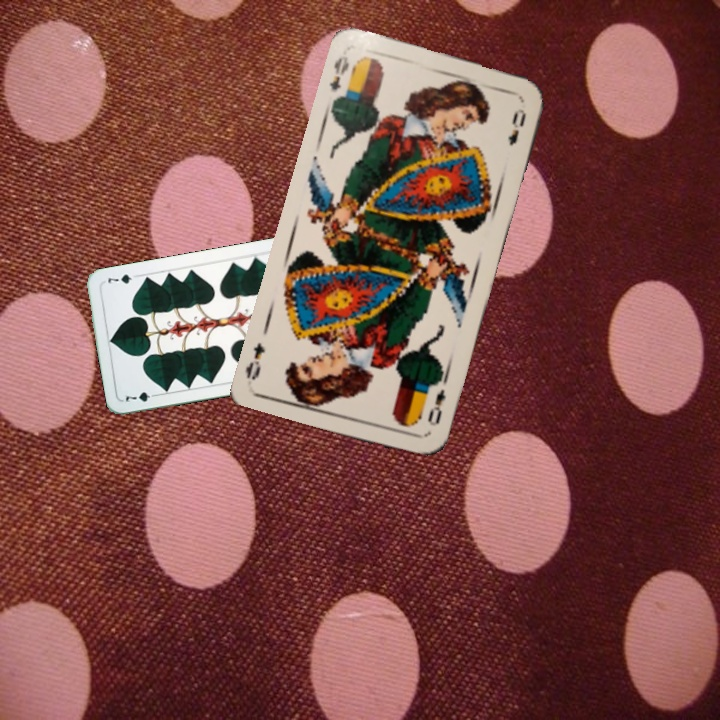EO: (325, 51, 352, 93), (423, 385, 448, 429)
G7: (121, 388, 161, 406)
